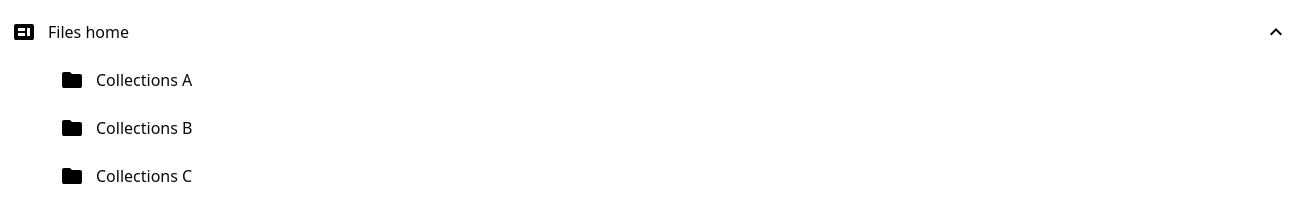
Test case: CollectionNav › collapses collections when toggle is clicked (uncontrolled)
This screenshot has width=1304, height=201.
Click the button with test id "collection-nav-toggle" at (1276, 32), box [1260,16,1292,48]
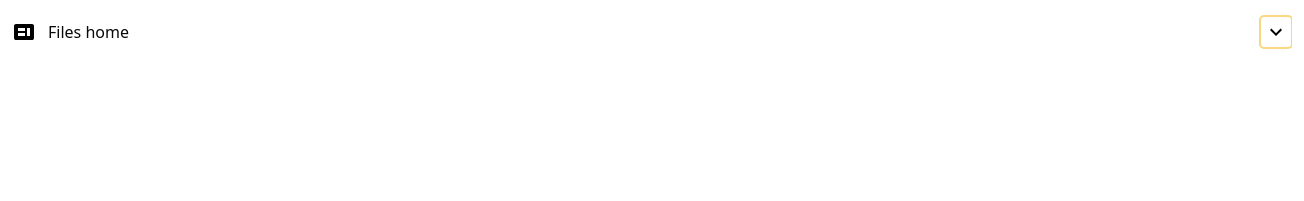
expect the button "Collections A" is gone: met
expect the button "Collections B" is gone: met
expect the button "Collections C" is gone: met
